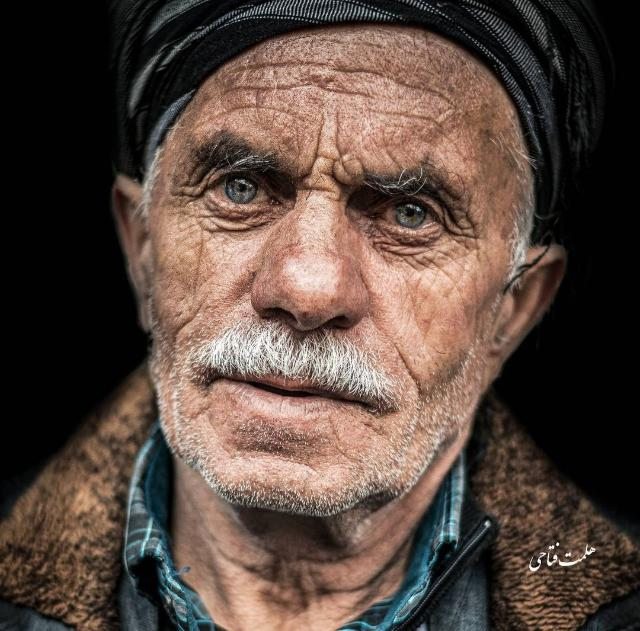crows_feet: (442, 215, 480, 257), (174, 173, 208, 211)
forehead: (314, 76, 376, 106), (389, 70, 445, 98), (322, 58, 376, 86), (398, 106, 447, 136), (227, 76, 283, 100), (237, 52, 295, 74), (225, 100, 278, 118)
frown_line: (306, 138, 340, 200)
gummy_smile: (392, 344, 426, 392)
masseter: (168, 308, 200, 348)
